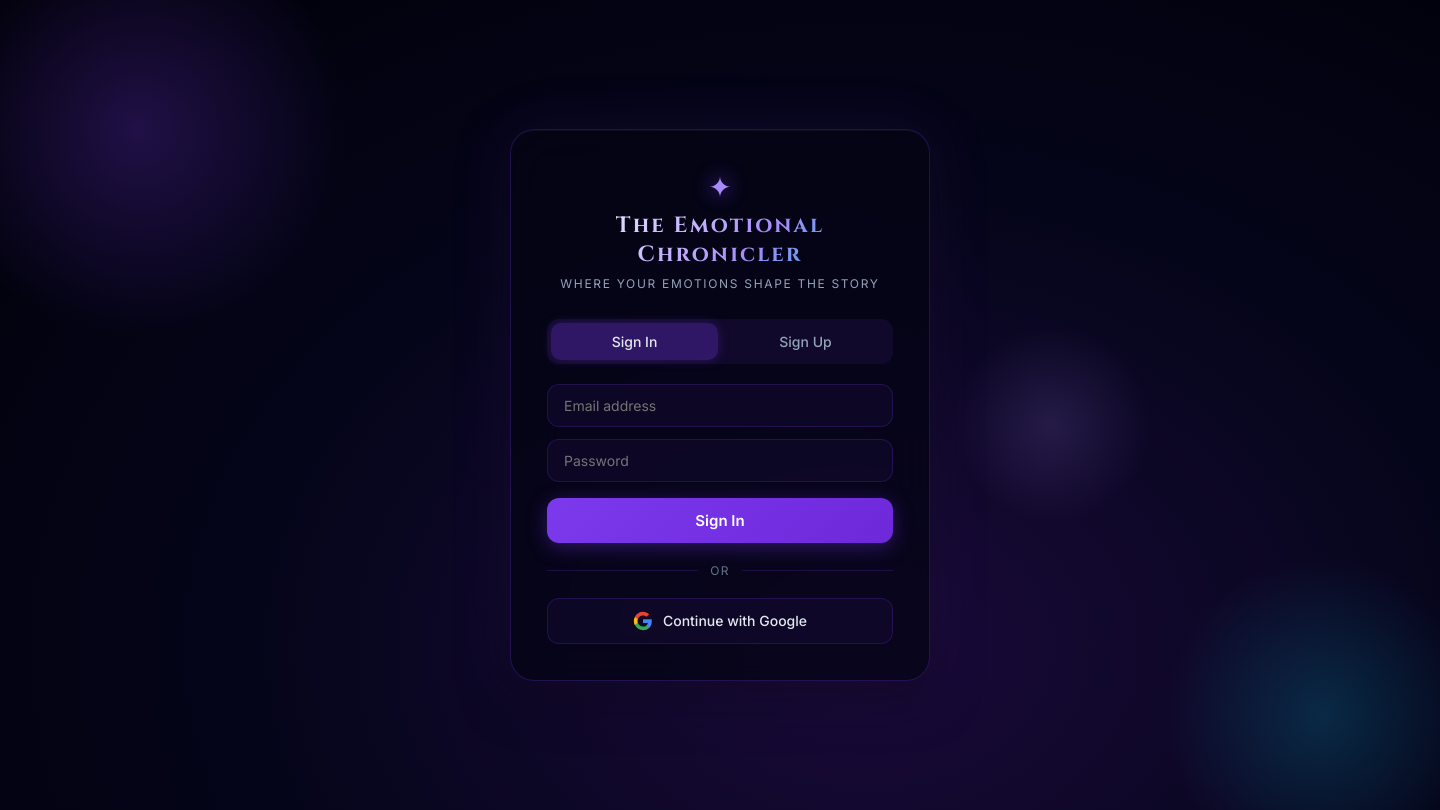
Test: AuthScreen › sign-in form submission › should show "Signing in…" while busy
Type "user@test.com" into the field with placeholder "Email address". click: point(720, 405)
box: [547,384,893,427]
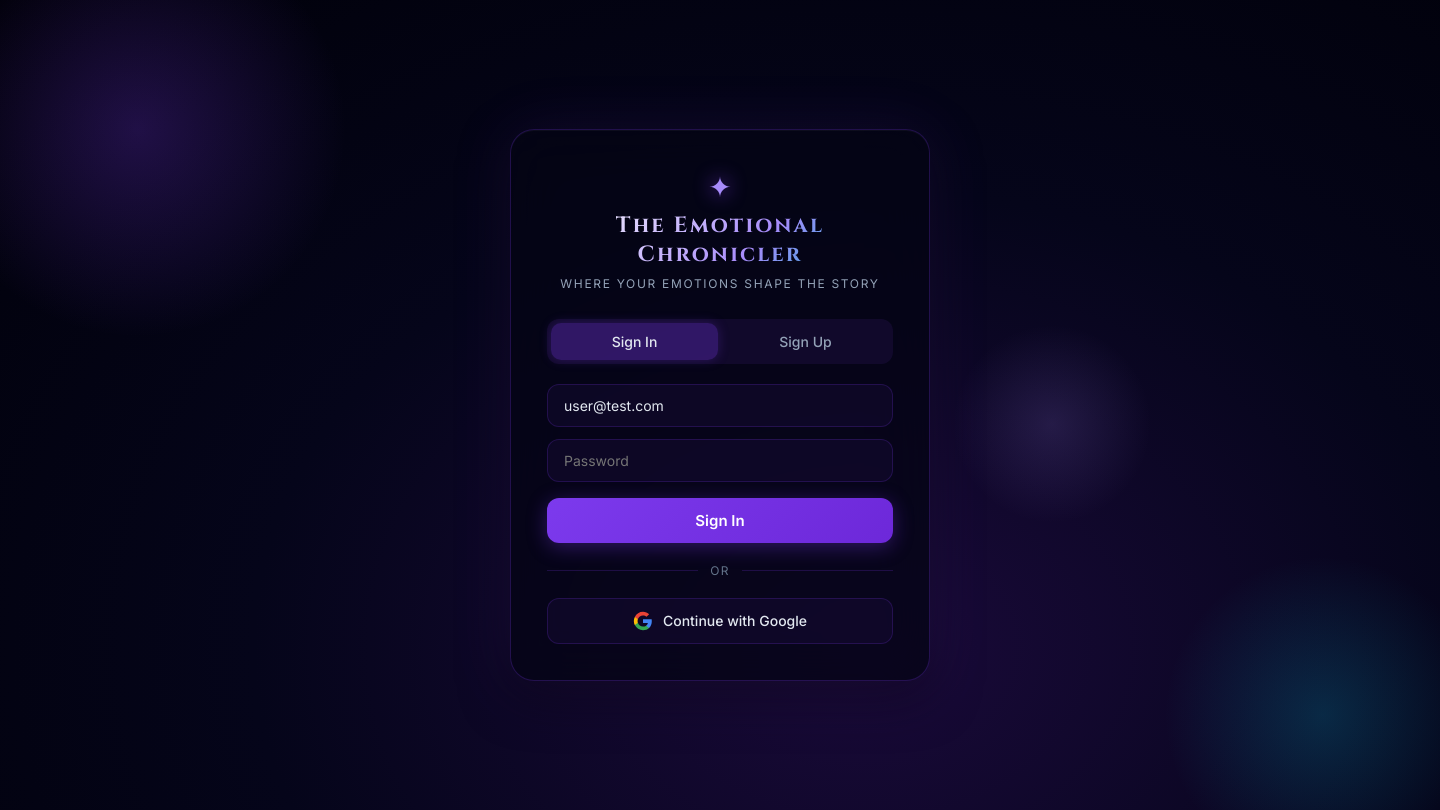
Type "pass" into the password field with placeholder "Password". click: point(720, 460)
box: [547,439,893,482]
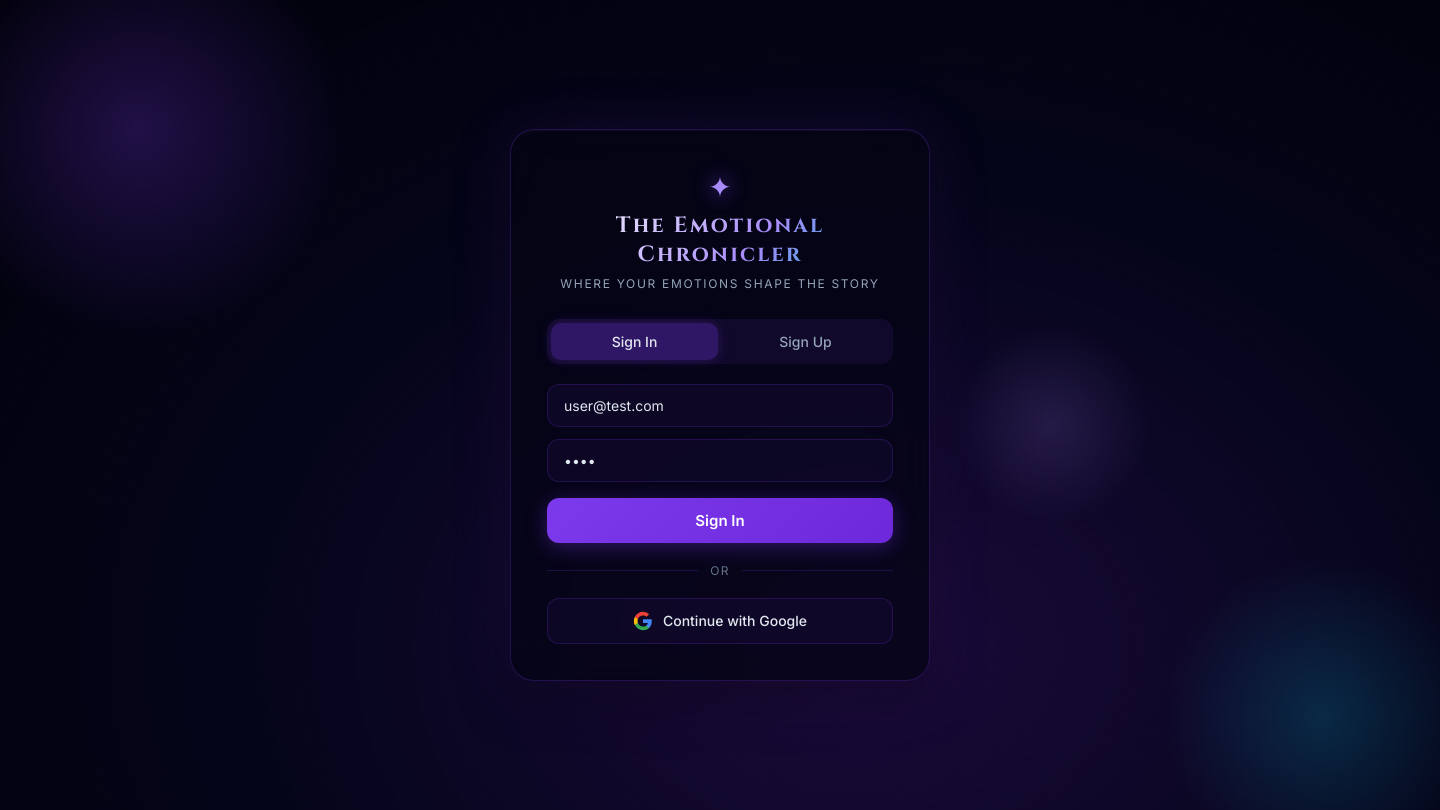
Click the 2nd button "Sign In". click: point(720, 520)
box: [547,498,893,543]
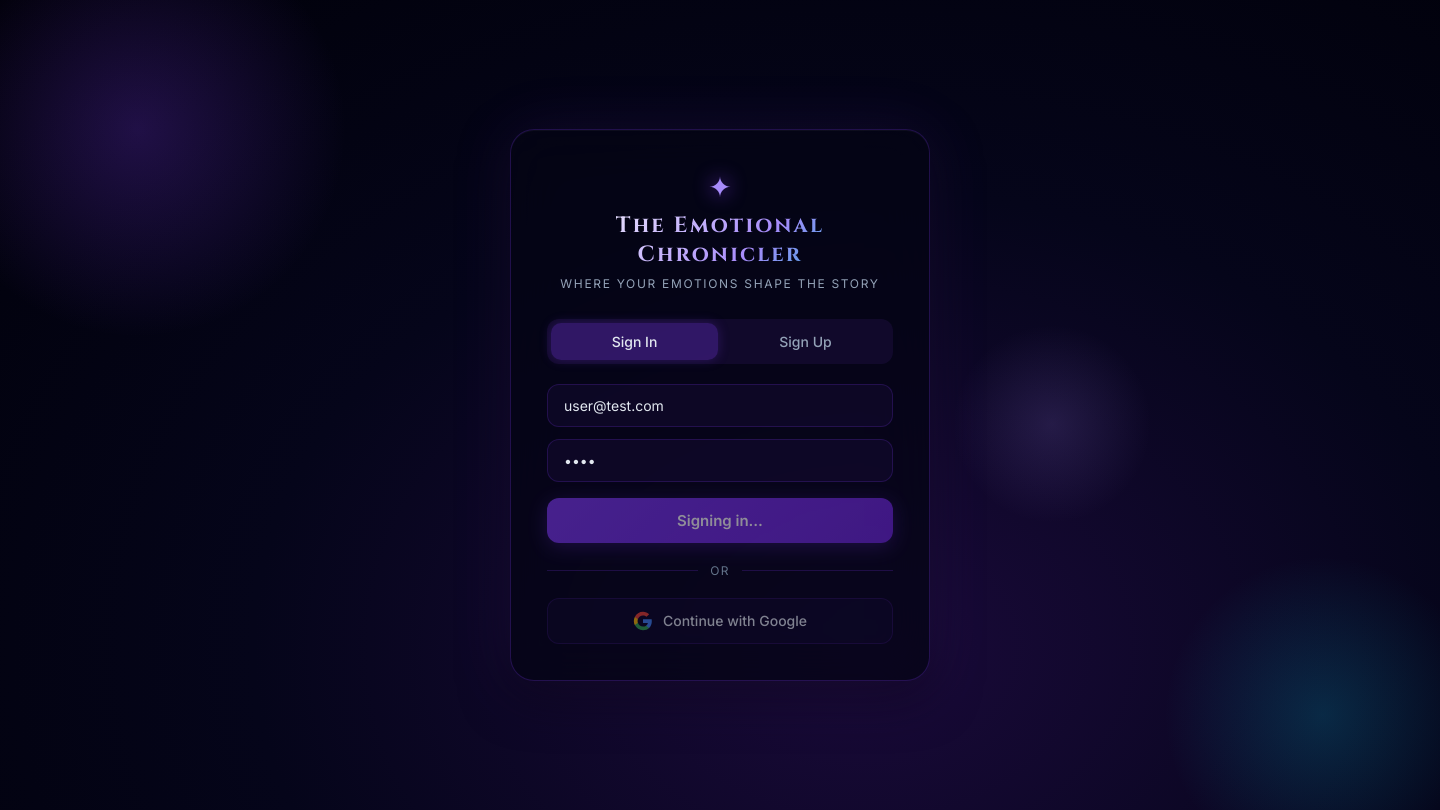
Expected: the button "Signing in…" is shown, [547,498,893,543]
